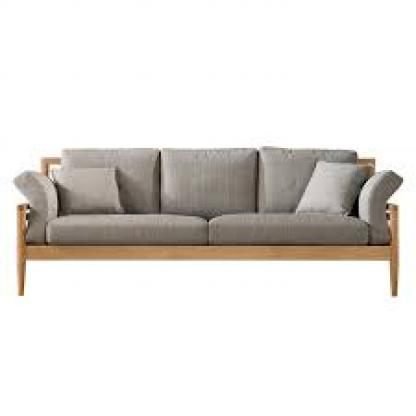sofa: (11, 142, 403, 305)
